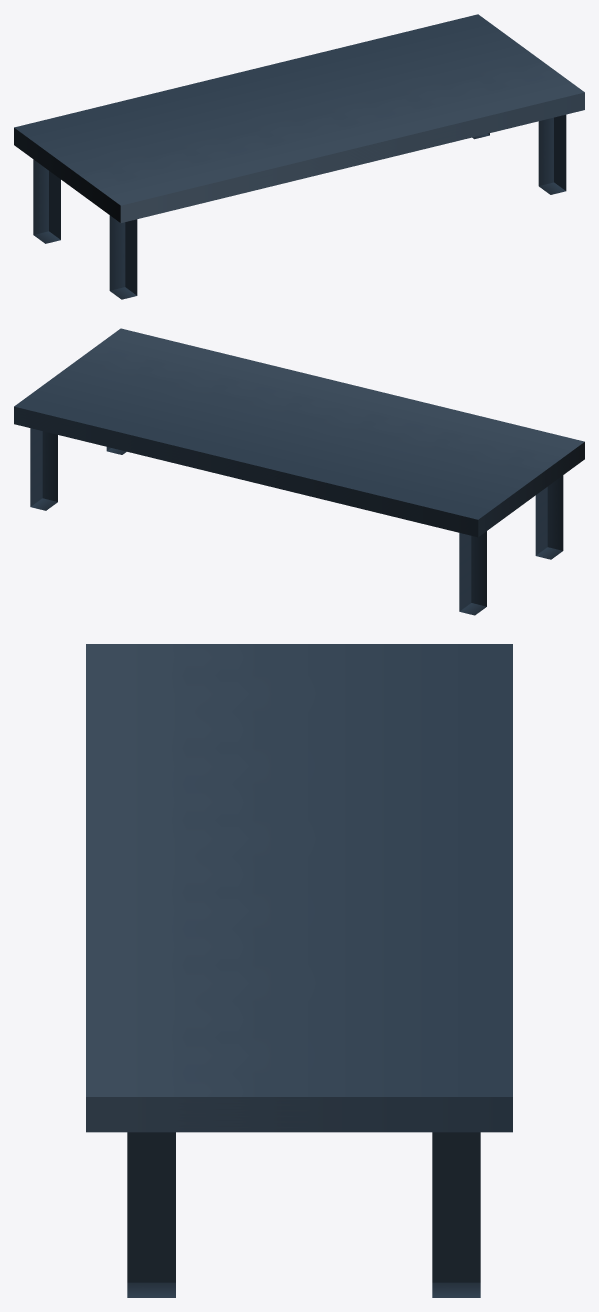
File: table.glb
3 renders of one model, top to bottom at view 1: azimuth 30°, elevation 25°; view 2: azimuth 150°, elevation 25°; view 3: azimuth 270°, elevation 25°, orthographic. The views are drawn at different scales.
Parts seen in each view (by area): view 1: Cube.008; view 2: Cube.008; view 3: Cube.008.
Part boxes in pixels (x1=…): Cube.008: x1=14, y1=14, x2=584, y2=299; Cube.008: x1=14, y1=328, x2=584, y2=615; Cube.008: x1=86, y1=644, x2=512, y2=1297.
Size of the model in its own units: 4.04 by 0.8694 by 1.61.
Materials: 1 (1 with a texture image).
